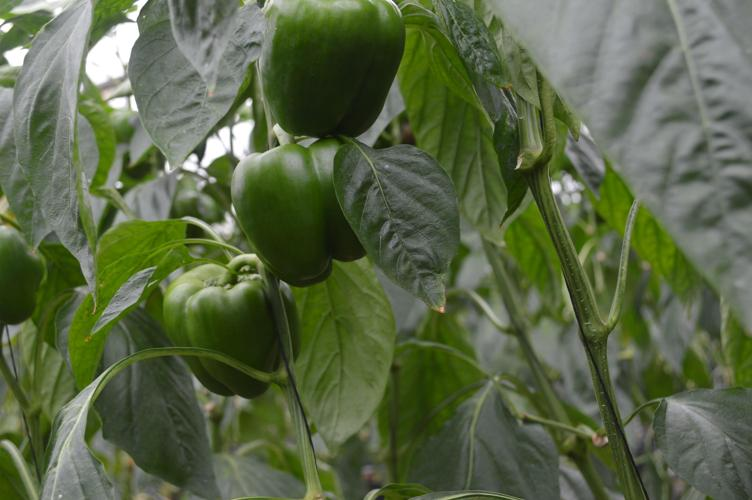BellPepper: (254, 2, 408, 132), (232, 141, 369, 285), (161, 264, 299, 402)
